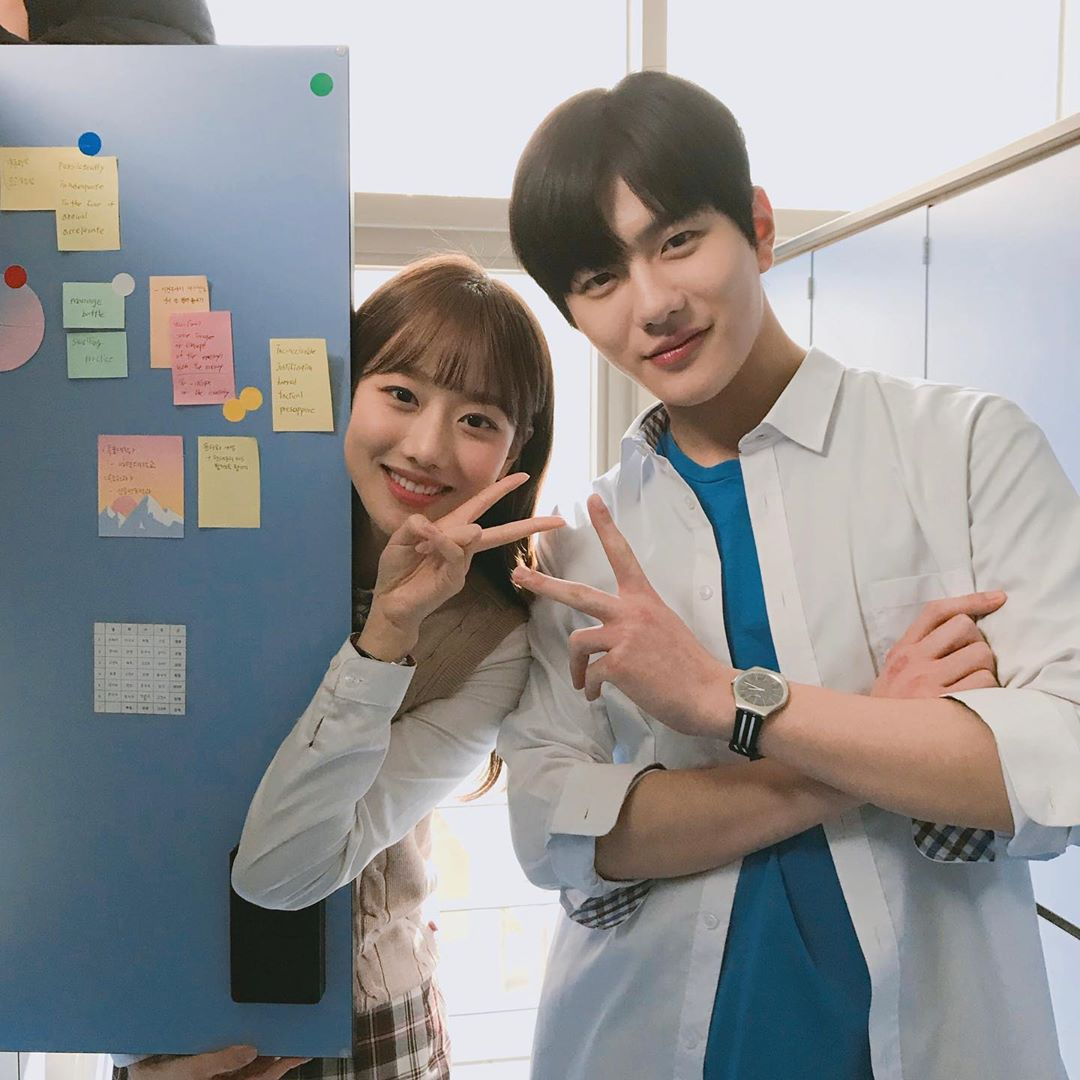people: (520, 71, 1080, 1080), (344, 263, 546, 1080)
